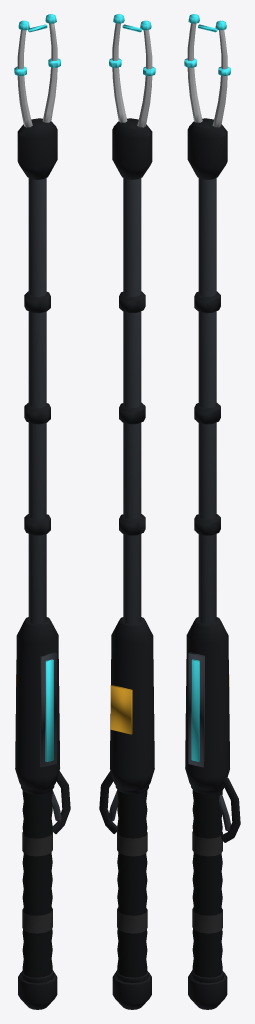
The model's file is gear_neon_prod.glb.
3 renders of one model, left to right at view 1: azimuth 30°, elevation 25°; view 2: azimuth 150°, elevation 25°; view 3: azimuth 330°, elevation 25°, orthographic.
Visible parts, largest first — view 1: gear_neon_prod; view 2: gear_neon_prod; view 3: gear_neon_prod.
Part boxes in pixels (box(x1,y1,x2,y2)): gear_neon_prod: box(14, 14, 70, 1009); gear_neon_prod: box(99, 14, 155, 1009); gear_neon_prod: box(184, 14, 240, 1009).
Bounding box in the file's own units: 0.0777 × 1.33 × 0.0579.
